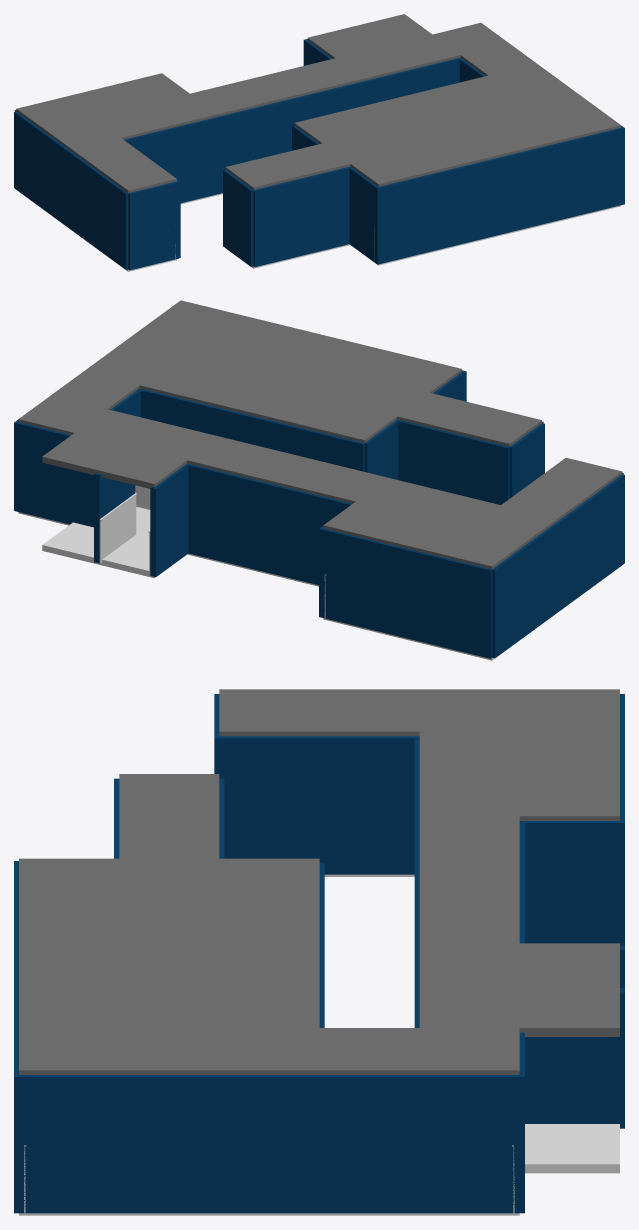
Rendered from map.fbx.
The picture shows the model from 3 angles, top to bottom: view 1: azimuth 30°, elevation 25°; view 2: azimuth 150°, elevation 25°; view 3: azimuth 270°, elevation 25°; orthographic projection. The views are drawn at different scales.
Visible parts, largest first — view 1: Wall.008, Wall.012, Ceiling.007, Wall.018, Ceiling, Ceiling.004, Ceiling.016, Ceiling.008, Ceiling.003, Wall.002, Wall.017, WallWindow.001 (+9 smaller); view 2: Wall.016, Ceiling.007, WallWindow.004, Wall.018, Ceiling, Ceiling.003, Ceiling.016, Ceiling.004, Ceiling.008, Wall, Wall.005, Wall.010 (+10 smaller); view 3: Wall.009, Ceiling.007, Ceiling, Wall.019, Ceiling.008, Ceiling.016, Ceiling.003, Ceiling.004, WallWindow.002, Wall.011, Wall.015, Ceiling.012 (+9 smaller).
Part boxes in pixels (bbox=[...]): Wall.008: bbox=[374, 127, 624, 264]; Wall.012: bbox=[167, 58, 459, 203]; Ceiling.007: bbox=[93, 22, 508, 139]; Wall.018: bbox=[14, 111, 128, 269]; Ceiling: bbox=[225, 96, 544, 189]; Ceiling.004: bbox=[350, 116, 572, 186]; Ceiling.016: bbox=[16, 97, 176, 193]; Ceiling.008: bbox=[460, 43, 621, 139]; Ceiling.003: bbox=[294, 75, 515, 143]; Wall.002: bbox=[253, 178, 303, 266]; Wall.017: bbox=[128, 181, 178, 270]; WallWindow.001: bbox=[302, 167, 349, 255]; Wall.016: bbox=[322, 529, 492, 658]; Ceiling.007: bbox=[18, 395, 500, 528]; WallWindow.004: bbox=[186, 463, 352, 585]; Wall.018: bbox=[492, 474, 624, 658]; Ceiling: bbox=[172, 338, 541, 446]; Ceiling.003: bbox=[139, 361, 396, 442]; Ceiling.016: bbox=[436, 457, 622, 569]; Ceiling.004: bbox=[205, 314, 461, 393]; Ceiling.008: bbox=[51, 300, 236, 409]; Wall: bbox=[397, 419, 509, 504]; Wall.005: bbox=[138, 388, 364, 471]; Wall.010: bbox=[14, 420, 135, 527]; Wall.009: bbox=[19, 1075, 319, 1213]; Ceiling.007: bbox=[419, 731, 519, 1074]; Ceiling: bbox=[119, 774, 219, 1027]; Wall.019: bbox=[214, 734, 419, 874]; Ceiling.008: bbox=[19, 1028, 419, 1074]; Ceiling.016: bbox=[219, 689, 619, 736]; Ceiling.003: bbox=[219, 858, 319, 1027]; Ceiling.004: bbox=[19, 858, 119, 1027]; WallWindow.002: bbox=[319, 1075, 419, 1213]; Wall.011: bbox=[419, 1075, 519, 1213]; Wall.015: bbox=[519, 818, 624, 945]; Ceiling.012: bbox=[519, 943, 619, 1036].
Size of the model in its own units: 1820 by 320 by 1220.
